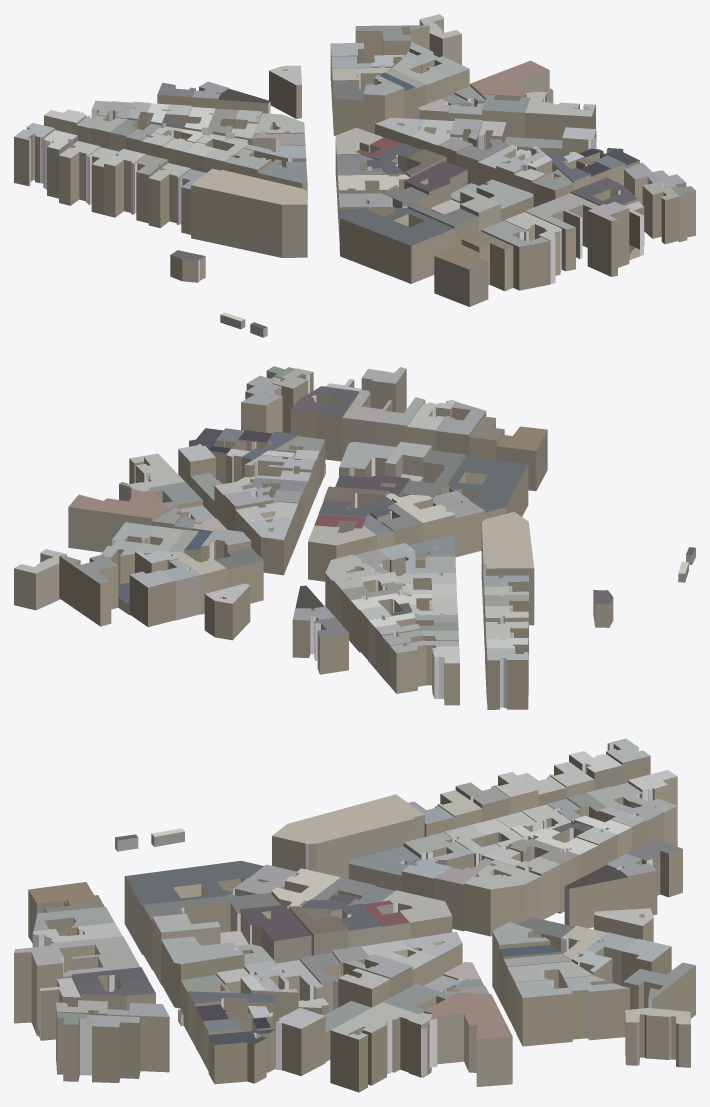
3 renders of one model, top to bottom at view 1: azimuth 30°, elevation 25°; view 2: azimuth 150°, elevation 25°; view 3: azimuth 270°, elevation 25°, orthographic. The views are drawn at different scales.
Visible parts, largest first — view 1: tuile; view 2: tuile; view 3: tuile.
Part boxes in pixels (<box>): tuile: <box>14,14,695,337</box>; tuile: <box>14,366,695,709</box>; tuile: <box>14,738,695,1092</box>.
Bounding box in the file's own units: 276 × 39.46 × 271.
